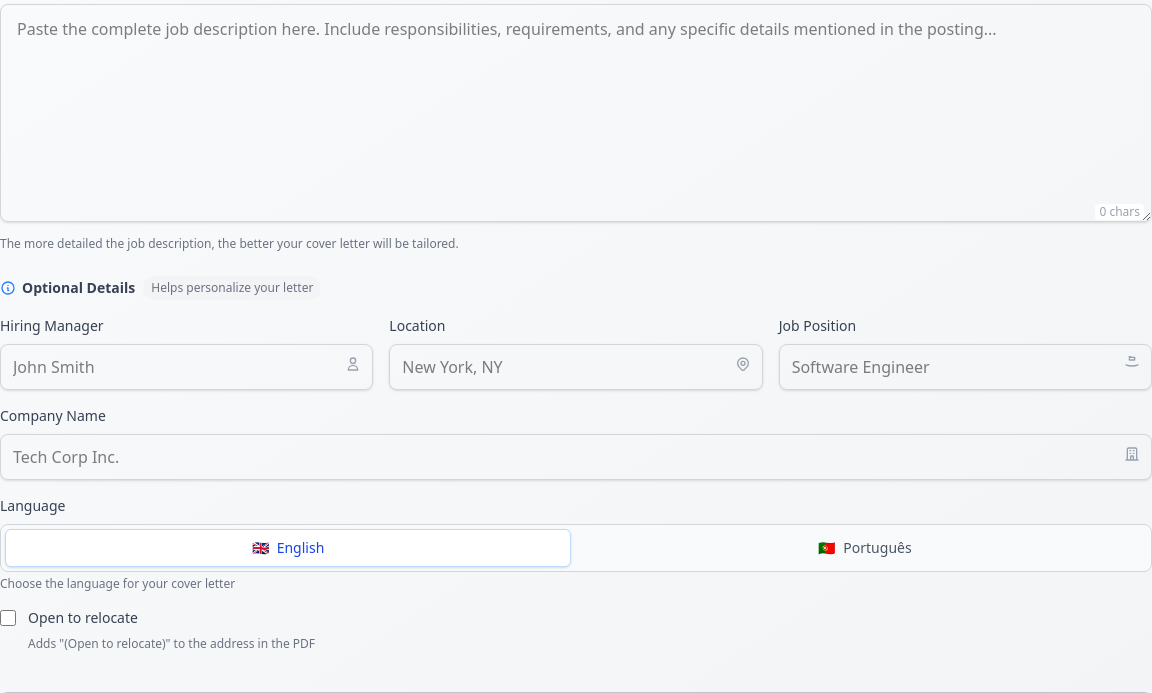
Test case: InputForm › Form Validation › should clear validation error when user starts typing in job description
(page scrolled)
Submit the form
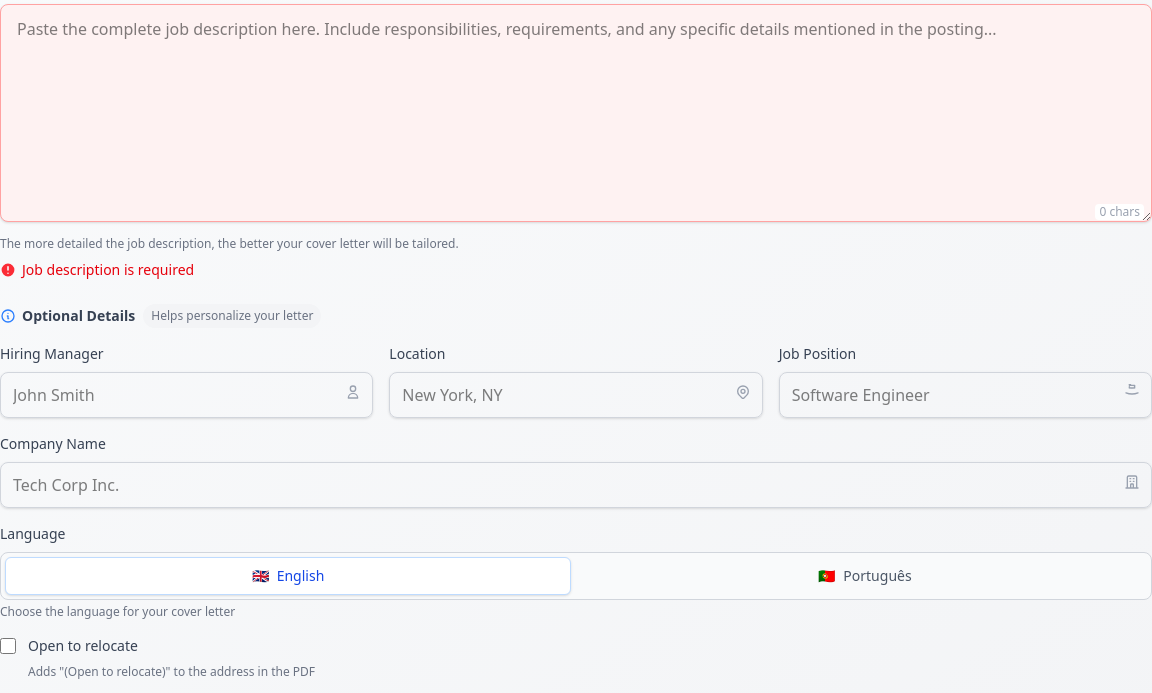
Expected: the text "Job description is required" is shown, [22,260,194,280]
Note: Start typing to clear error
In the text box labelled "Job Description *": [576, 113] box [0,4,1151,222], type "Test"
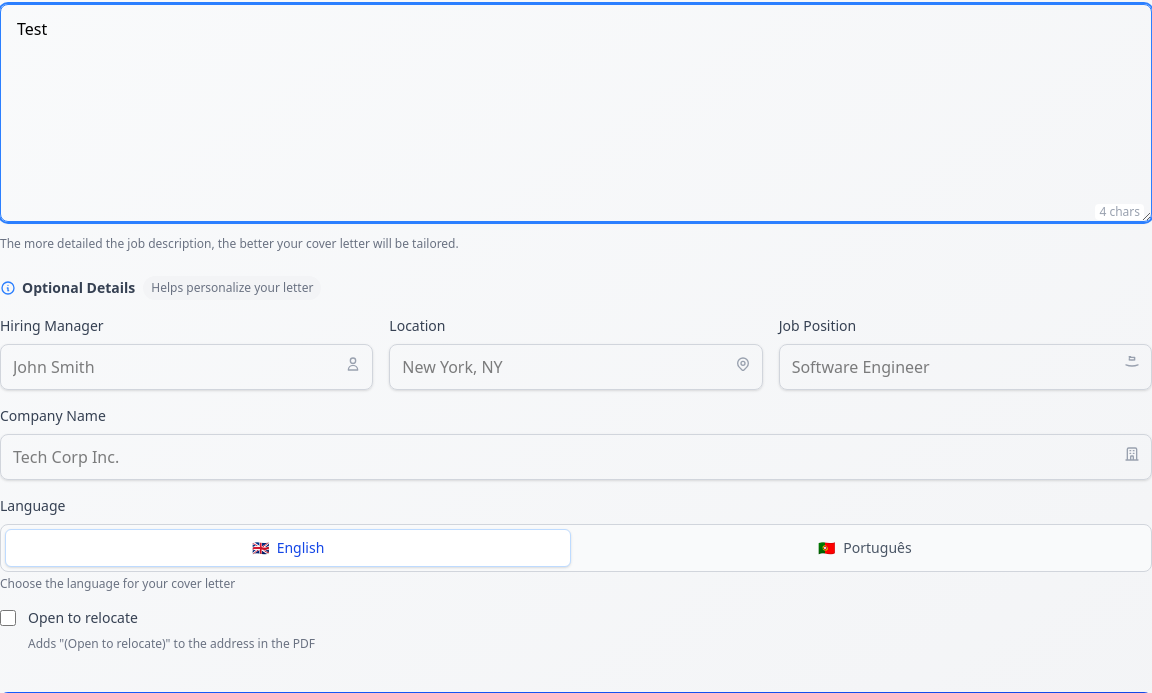
Expected: the text "Job description is required" is gone
